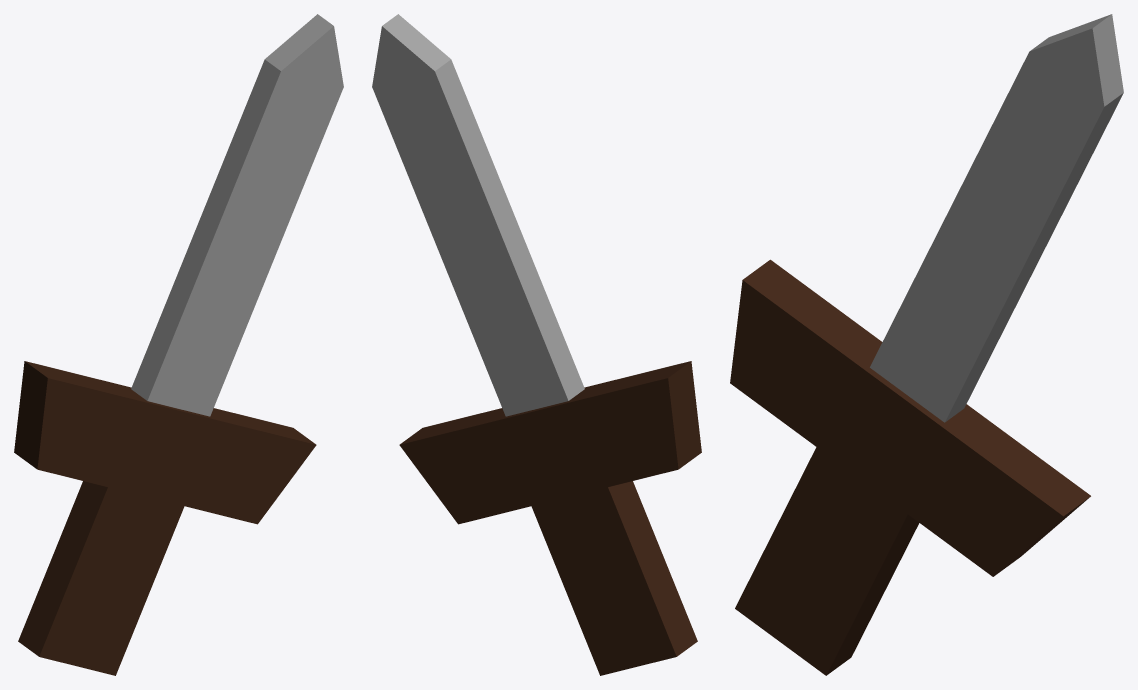
The model's file is Sword.fbx.
The picture shows the model from 3 angles, left to right: view 1: azimuth 30°, elevation 25°; view 2: azimuth 150°, elevation 25°; view 3: azimuth 330°, elevation 25°; orthographic projection. The views are drawn at different scales.
Visible parts, largest first — view 1: Cube; view 2: Cube; view 3: Cube.
Boxes of the visible parts, x1,y1,x2,y2 form: Cube: [14, 14, 343, 675]; Cube: [372, 14, 701, 675]; Cube: [730, 14, 1123, 675].
Size of the model in its own units: 368 by 675 by 48.03.
